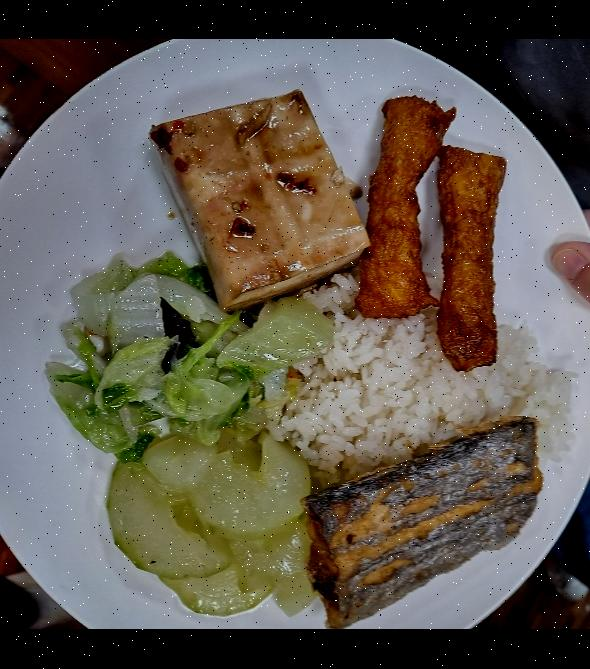big fried chicken leg: (0, 39, 590, 629)
big herbal chicken leg: (286, 289, 574, 484)
braised fish fillet: (53, 259, 339, 460), (152, 82, 368, 310), (109, 427, 322, 618)
braised pork: (354, 94, 512, 368)
braised pork ribs: (306, 412, 544, 628)
